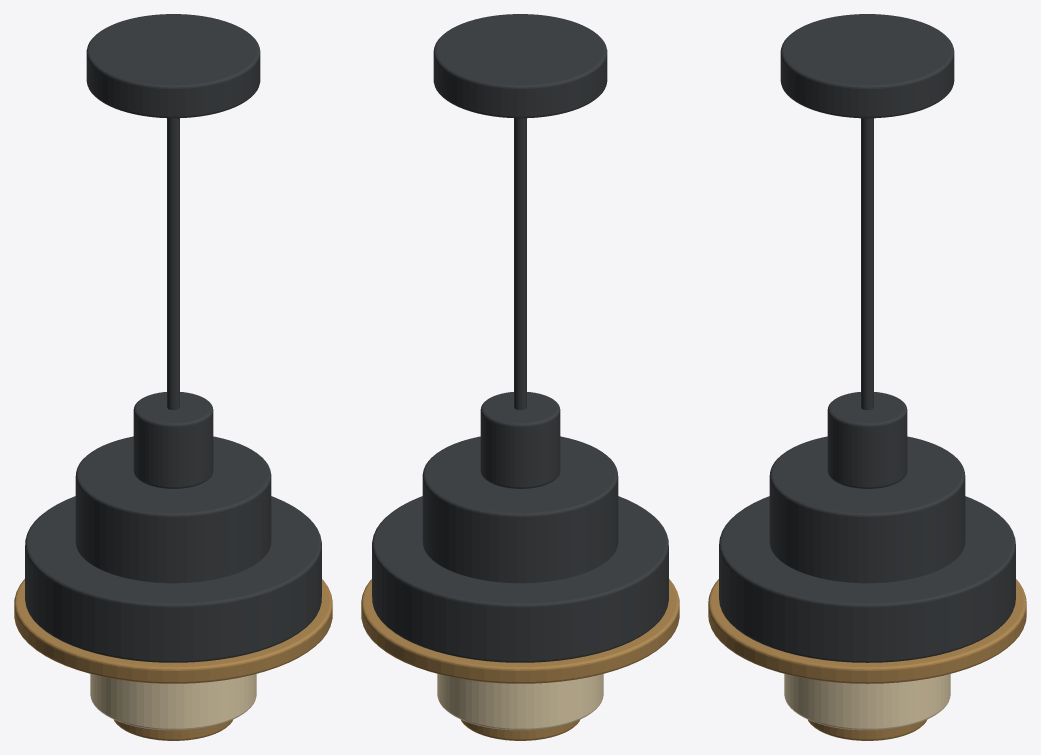
Rendered from cafe-pendant-lamp-01.glb.
The picture shows the model from 3 angles, left to right: view 1: azimuth 30°, elevation 25°; view 2: azimuth 150°, elevation 25°; view 3: azimuth 270°, elevation 25°; orthographic projection.
Visible parts, largest first — view 1: cafe-pendant-lamp-01; view 2: cafe-pendant-lamp-01; view 3: cafe-pendant-lamp-01.
Boxes of the visible parts, left/top/right/bottom form: cafe-pendant-lamp-01: left=14, top=14, right=332, bottom=740; cafe-pendant-lamp-01: left=361, top=14, right=679, bottom=740; cafe-pendant-lamp-01: left=708, top=14, right=1026, bottom=740.
Size of the model in its own units: 0.44 by 1.01 by 0.44.
